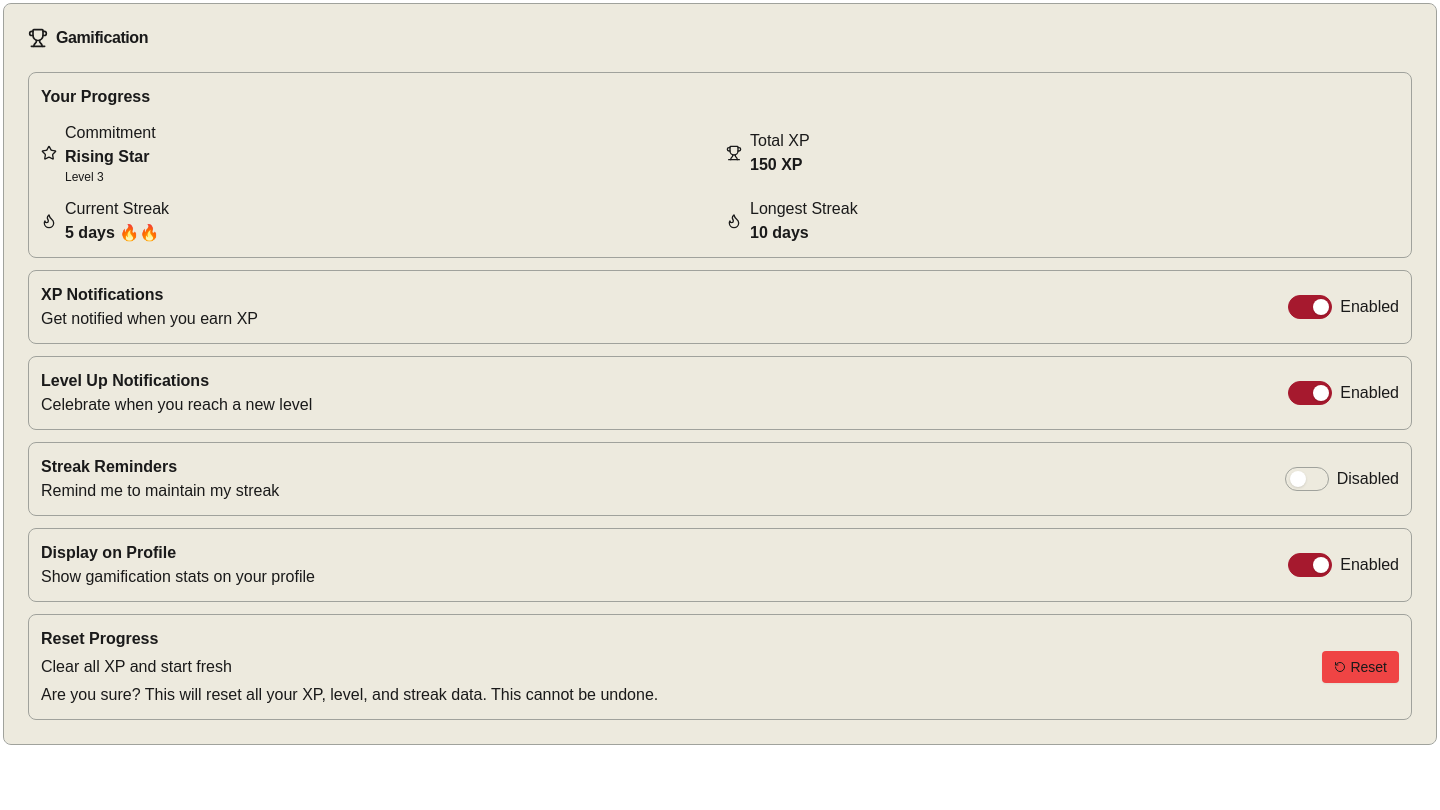
Test: GamificationSettings › closes dialog when cancel is clicked
Open dialog
Click the button with test id "reset-progress-button" at [1361, 667], box [1322,651,1399,683]
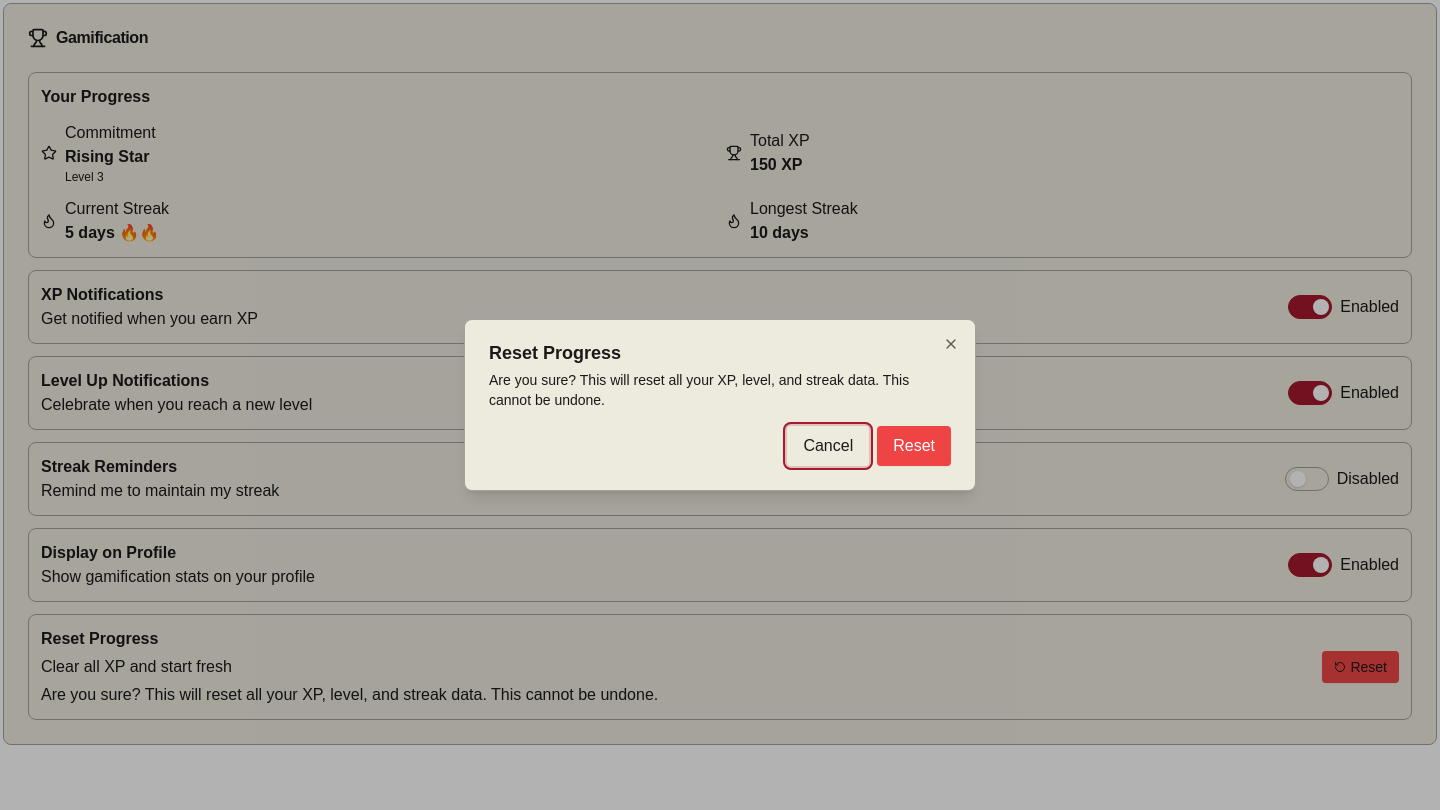
Check: the dialog is shown, box [464,319,976,491]
Click cancel
Click the button "Cancel" at [828, 446], box [787,426,869,466]
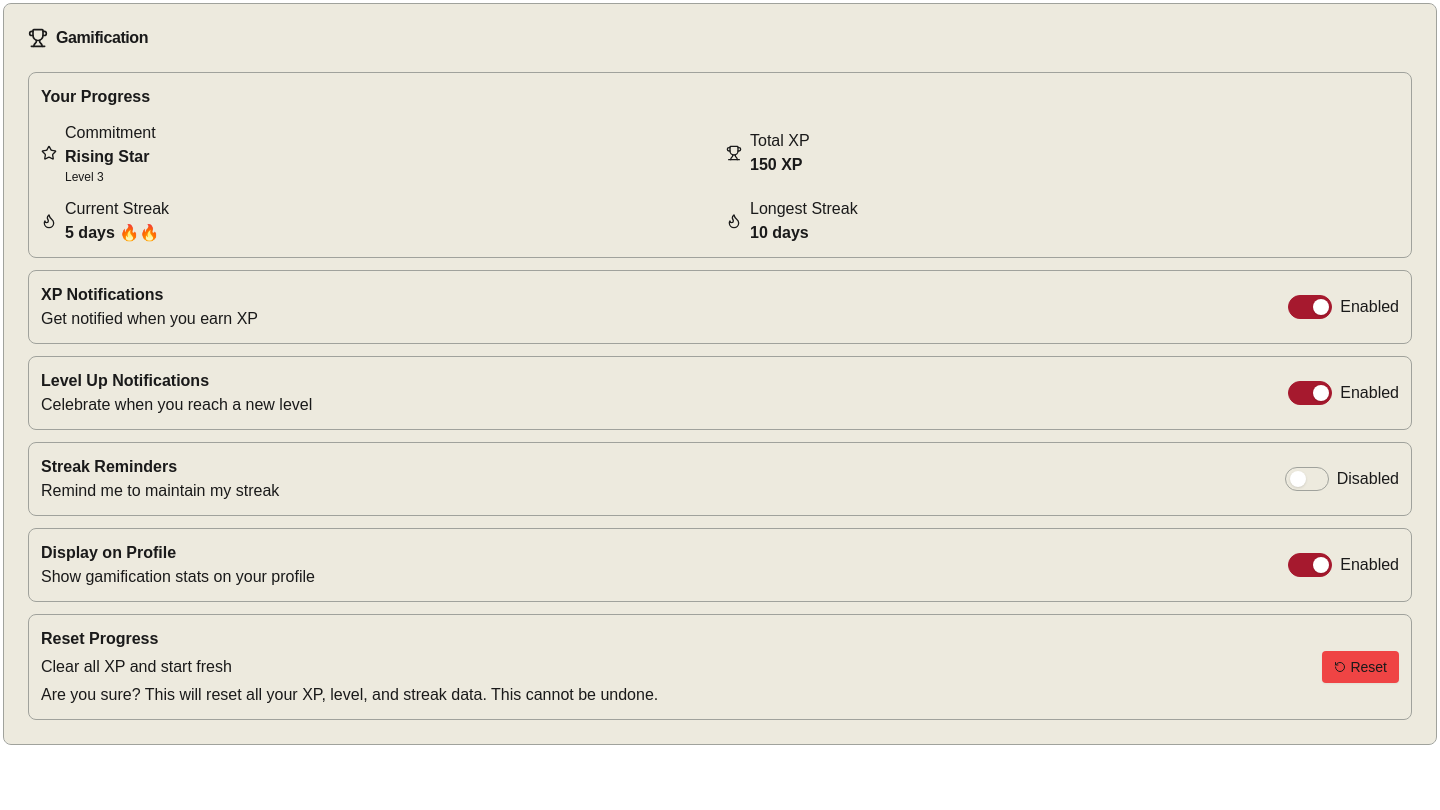
Check: the dialog is gone
